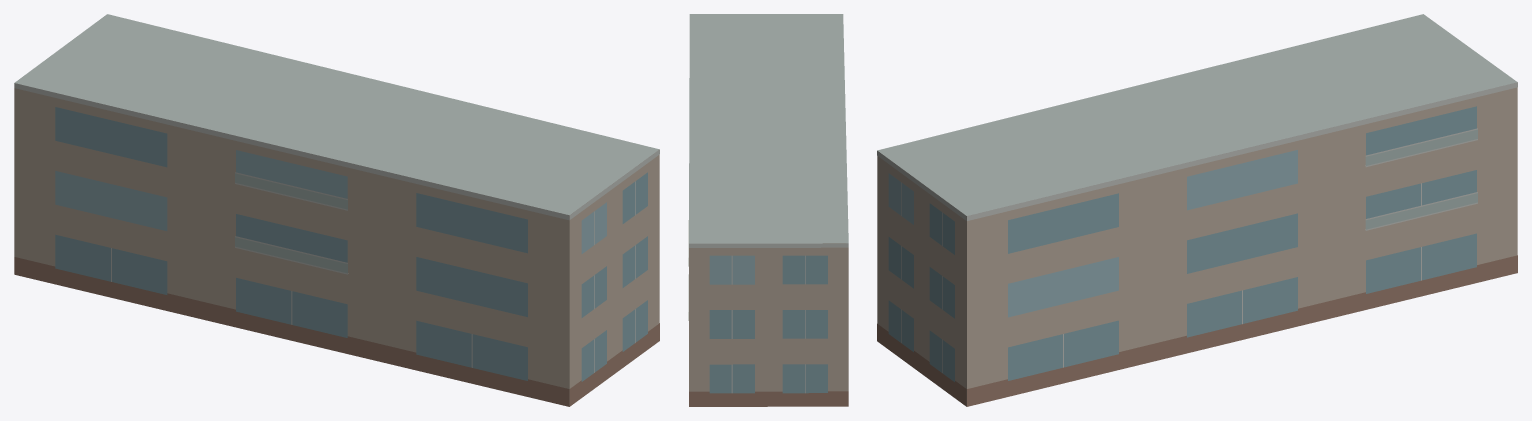
Rendered from survey-upis-32720517.glb.
3 views of the same model, side by side, from view 1: azimuth 30°, elevation 25°; view 2: azimuth 150°, elevation 25°; view 3: azimuth 270°, elevation 25° (orthographic). The views are drawn at different scales.
Parts seen in each view (by area): view 1: survey-upis-32720517.tmp; view 2: survey-upis-32720517.tmp; view 3: survey-upis-32720517.tmp.
Part boxes in pixels (x1,y1,x2,y2): survey-upis-32720517.tmp: (14, 14, 659, 406); survey-upis-32720517.tmp: (688, 14, 848, 406); survey-upis-32720517.tmp: (877, 14, 1517, 406).
Size of the model in its own units: 20.8 by 9.15 by 27.86.
